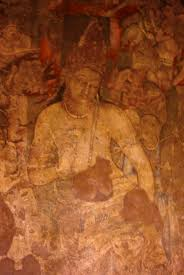Bodhisatva Padampani: (6, 2, 178, 270)
